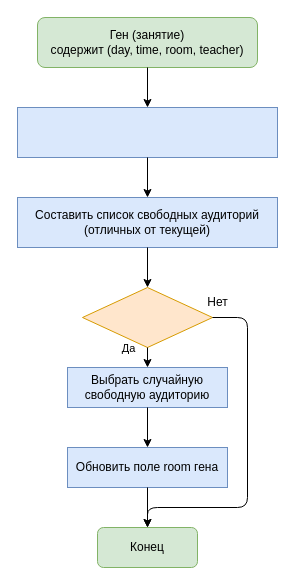
The diagram is 295 pixels wide and 585 high, and some of its shapes have lost their labels. Here are the shapes that lost their labels. From the top down, the centre of each, then its label:
At (147,132): "Найти все аудитории, занятые в это же время (кроме текущего гена)".
At (147,317): "Есть свободные?".
